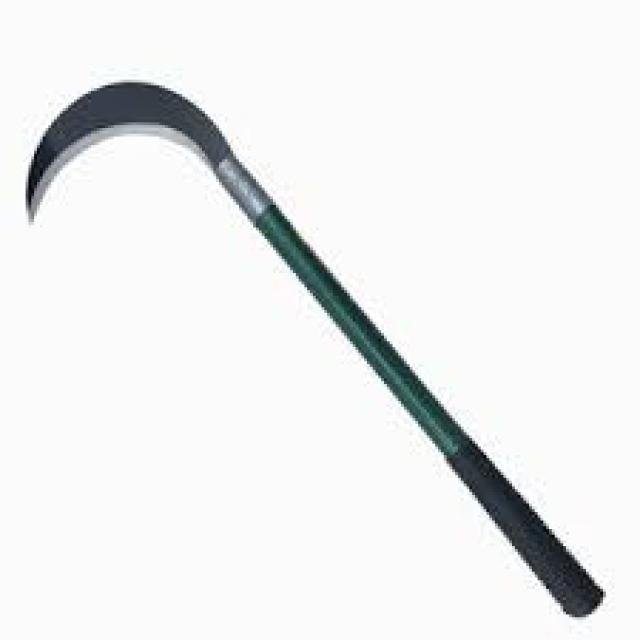sickle: (14, 62, 620, 640)
